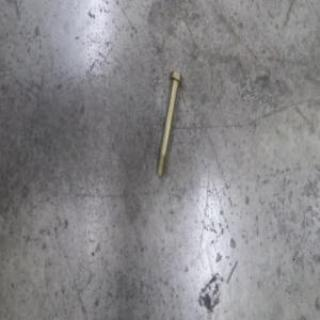Bolttrack_idkeyframe: (154, 68, 182, 178)
